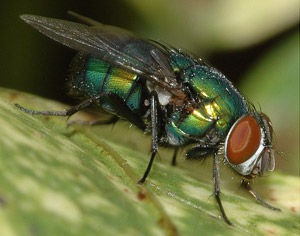green bottles flies: (9, 6, 284, 230)
